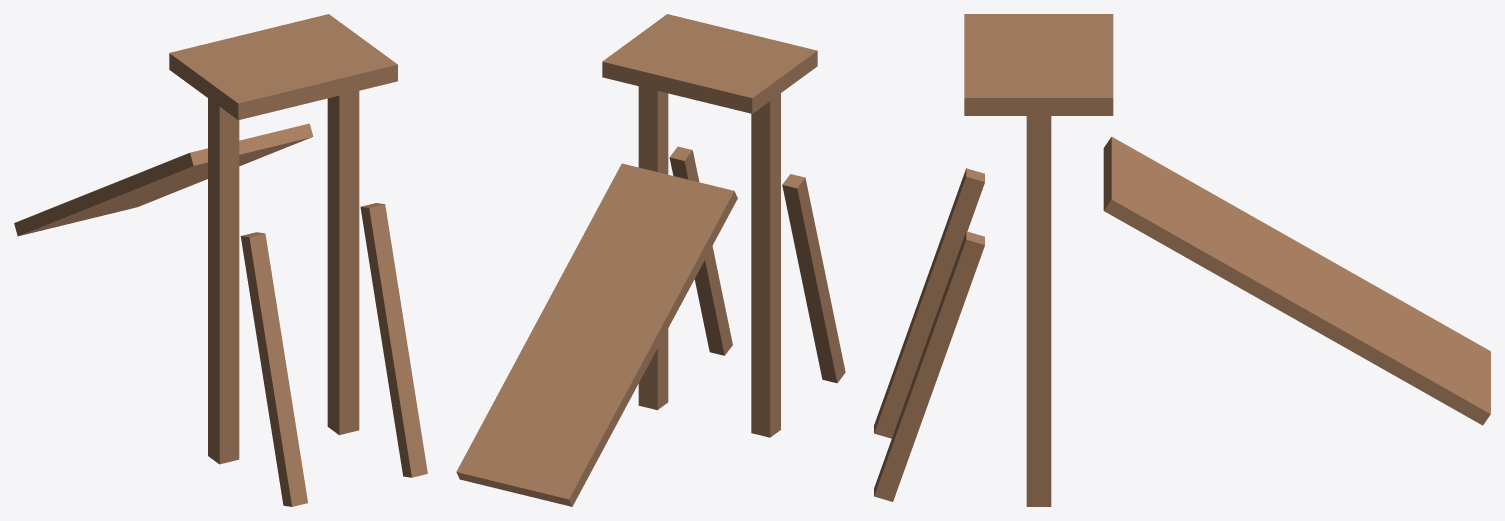
File: SM_Slide.fbx
3 views of the same model, side by side, from view 1: azimuth 30°, elevation 25°; view 2: azimuth 150°, elevation 25°; view 3: azimuth 270°, elevation 25° (orthographic). The views are drawn at different scales.
Parts seen in each view (by area): view 1: SM_Slide; view 2: SM_Slide; view 3: SM_Slide.
Boxes of the visible parts, x1,y1,x2,y2 form: SM_Slide: [14, 14, 427, 506]; SM_Slide: [456, 14, 845, 506]; SM_Slide: [874, 14, 1490, 506].
Size of the model in its own units: 400 by 920 by 1241.
